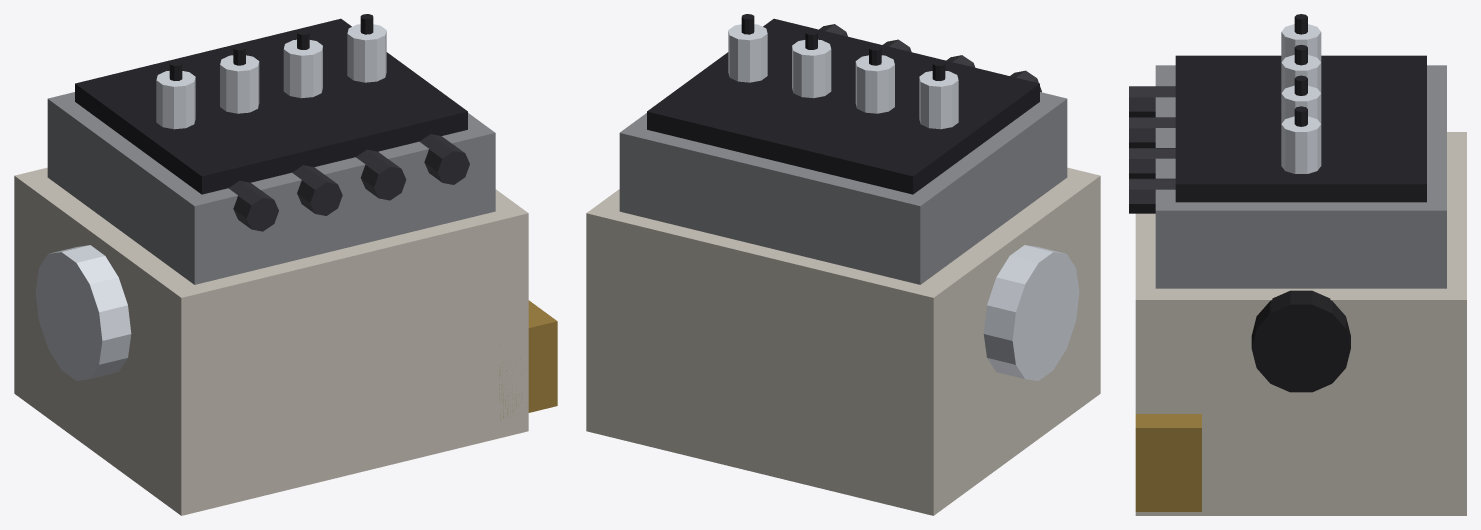
The model's file is engine.glb.
The picture shows the model from 3 angles, left to right: view 1: azimuth 30°, elevation 25°; view 2: azimuth 150°, elevation 25°; view 3: azimuth 270°, elevation 25°; orthographic projection.
Visible parts, largest first — view 1: engine; view 2: engine; view 3: engine.
Part boxes in pixels (bbox=[...]): engine: bbox=[14, 14, 557, 515]; engine: bbox=[586, 14, 1100, 515]; engine: bbox=[1129, 14, 1466, 515].
Size of the model in its own units: 0.7 by 0.615 by 0.51.
